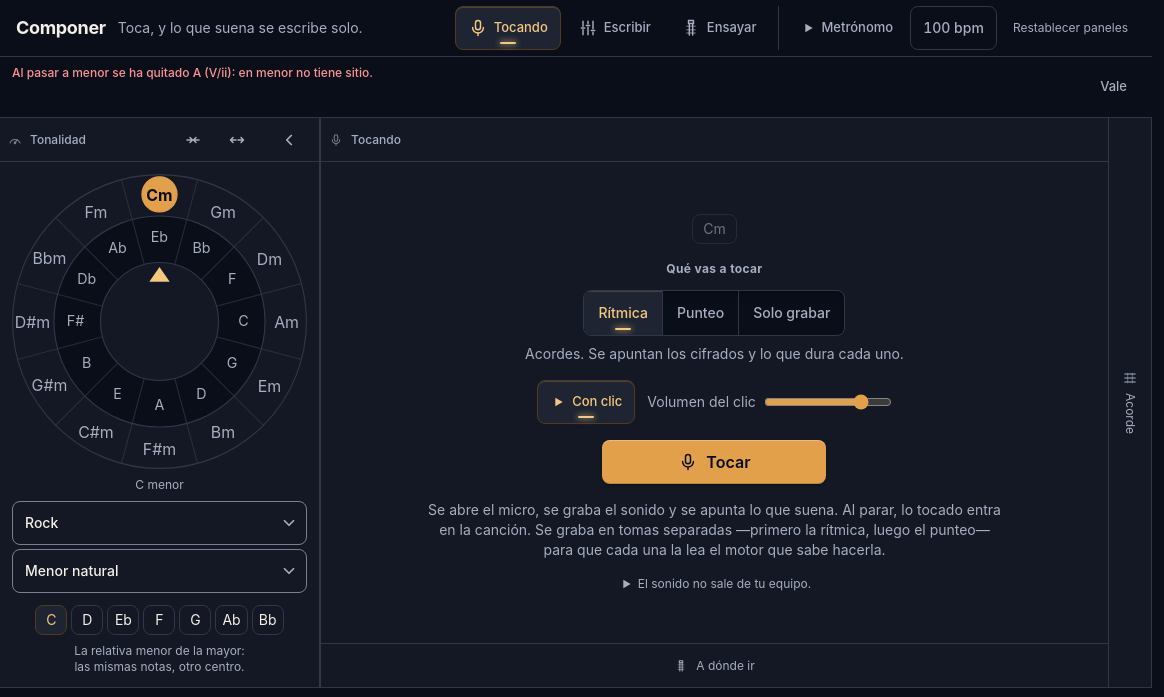
Scenario: Lo que se quita al cambiar de modo › se dice con el cifrado del modo de antes, y se cierra
expect the text "Al pasar a menor se ha quitado A (V/ii): en menor no tiene sitio." is shown: met, box [12,65,373,80]
Click the button "Vale": [1114, 87] box [1087,65,1140,109]
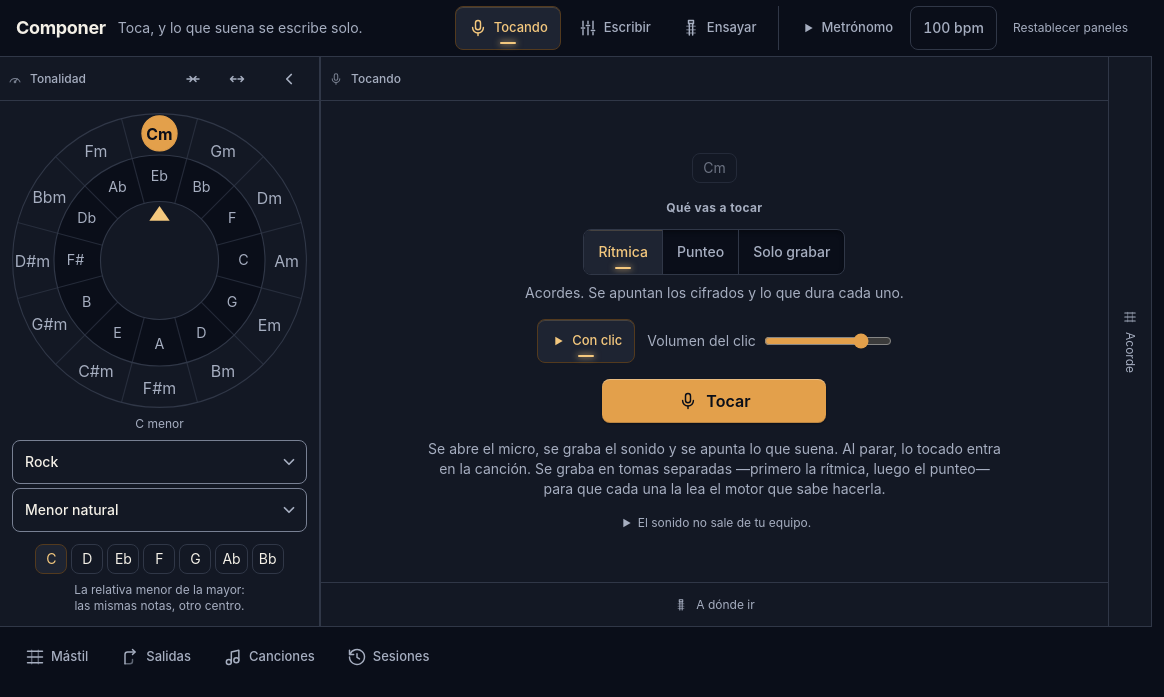
expect the text "se ha quitado" is gone: met
